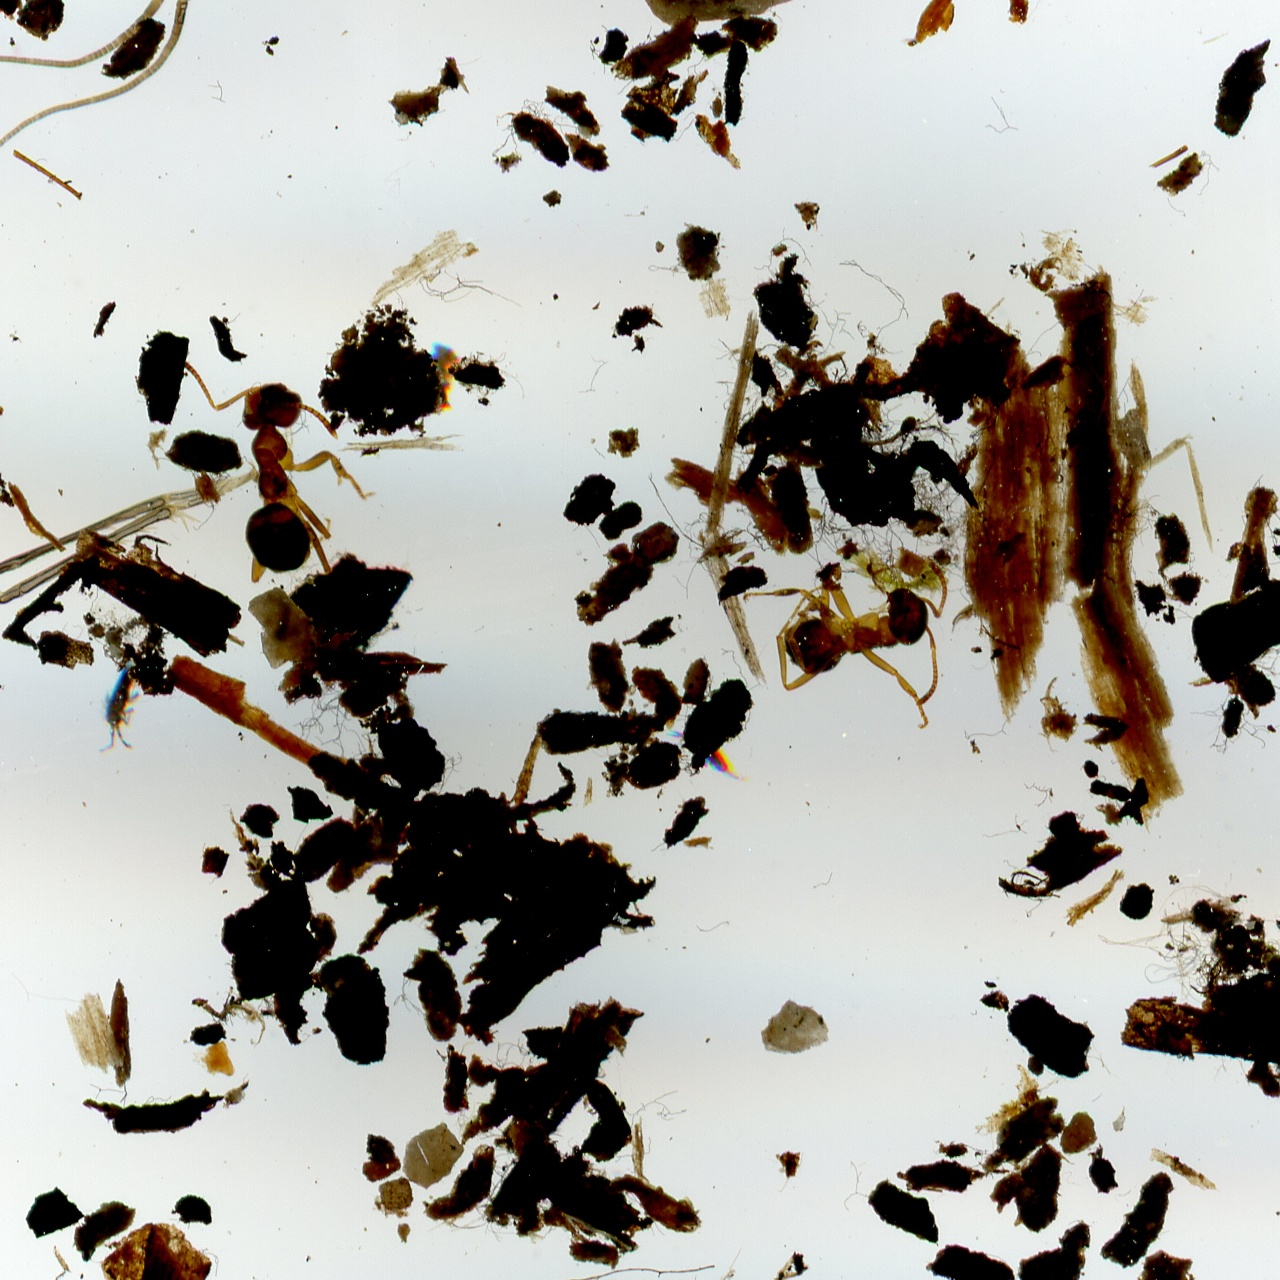arthropod: (0, 180, 503, 1142), (0, 0, 495, 342), (182, 358, 380, 588), (742, 559, 949, 733), (659, 718, 761, 794), (92, 660, 147, 759)
